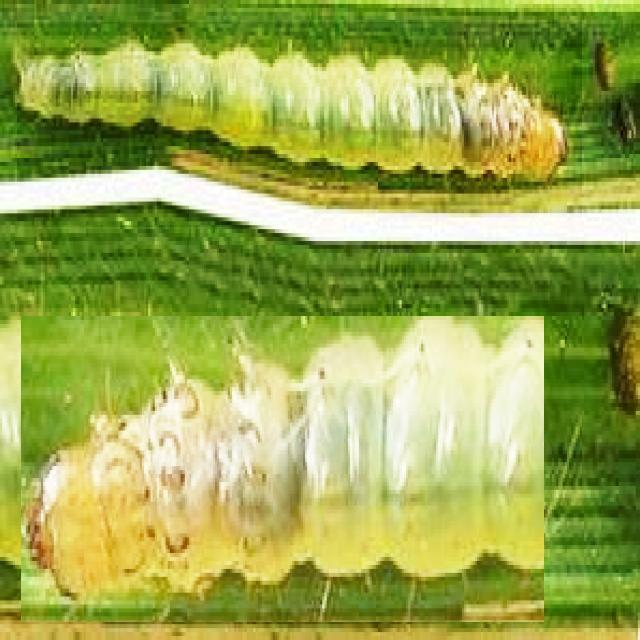leaf-folder: (21, 316, 544, 622), (17, 22, 582, 227)
